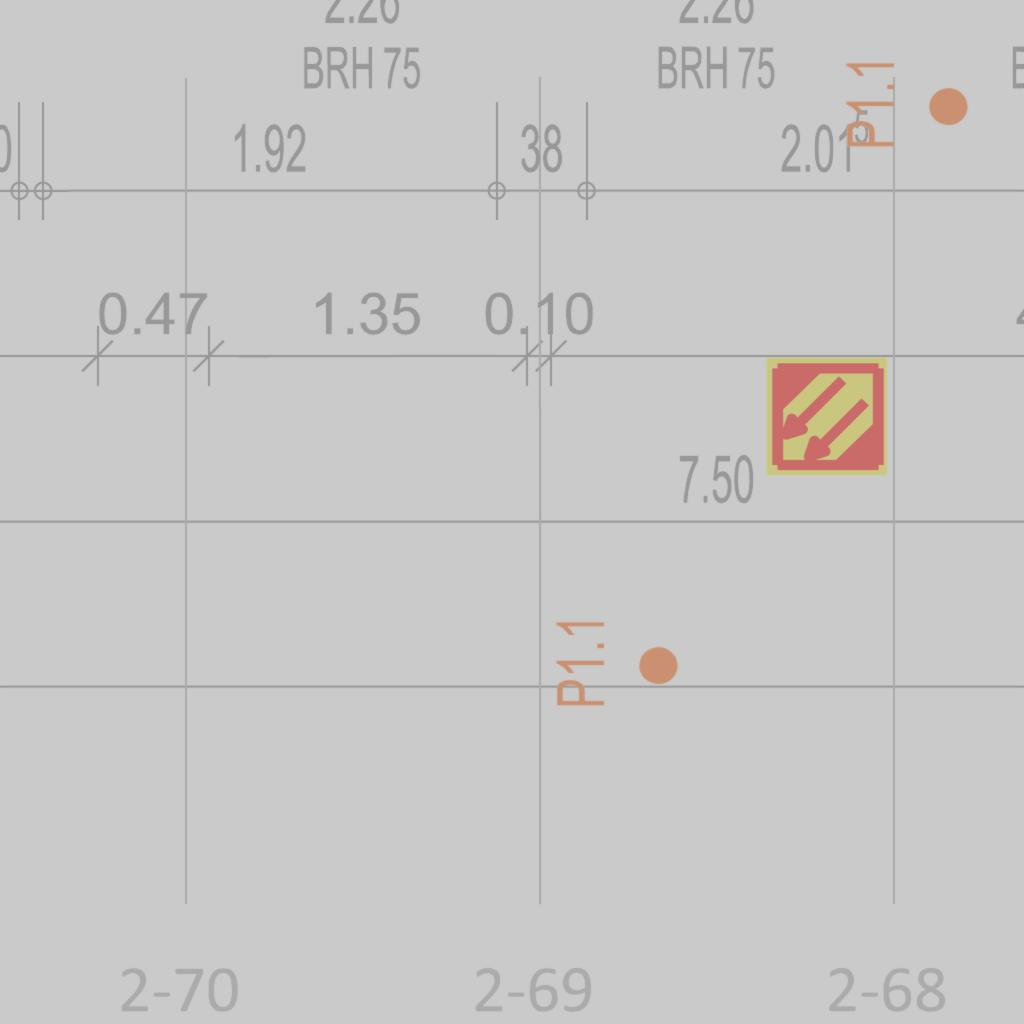ASR_Ansaugrauchmelder: (764, 354, 889, 479)
Downlight_LED_Einbauleuchten_Flur: (553, 616, 681, 709), (843, 57, 971, 150)
